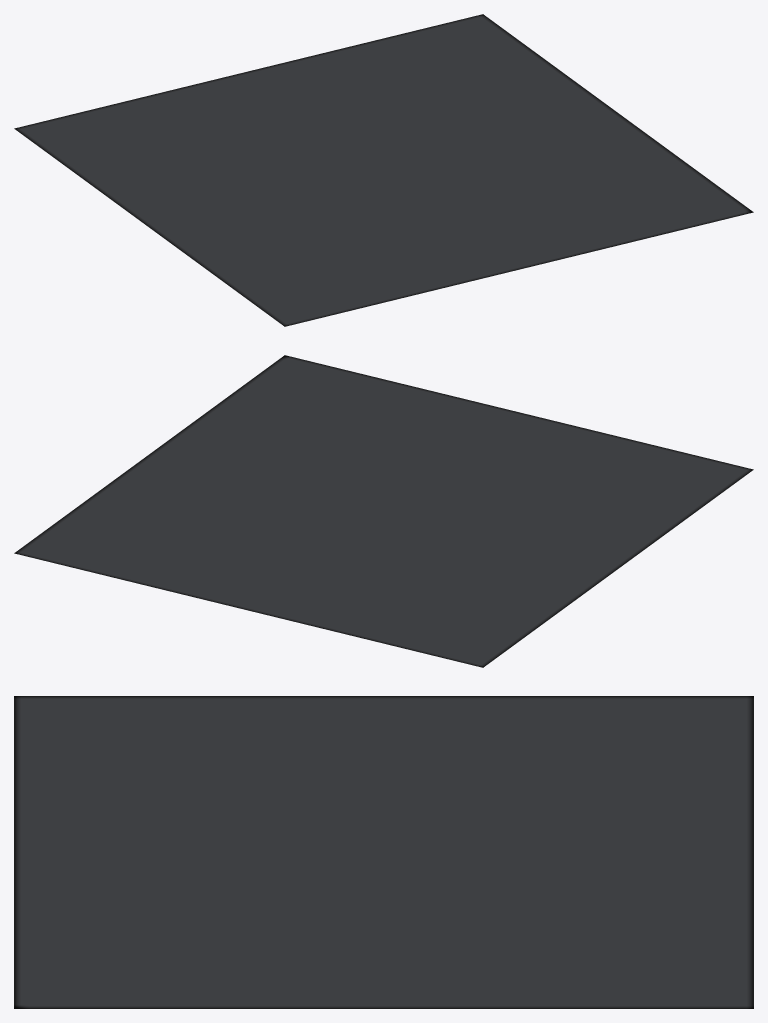
File: ViewShape.fbx
3 views of the same model, one above another, from view 1: azimuth 30°, elevation 25°; view 2: azimuth 150°, elevation 25°; view 3: azimuth 270°, elevation 25° (orthographic). The views are drawn at different scales.
Visible parts, largest first — view 1: pPlane1; view 2: pPlane1; view 3: pPlane1.
Part boxes in pixels (x1,y1,x2,y2): pPlane1: [14, 14, 753, 326]; pPlane1: [14, 355, 753, 667]; pPlane1: [14, 696, 753, 1008].
Bounding box in the file's own units: 1 × 2.22e-16 × 1.
Materials: 1 (1 with a texture image).
